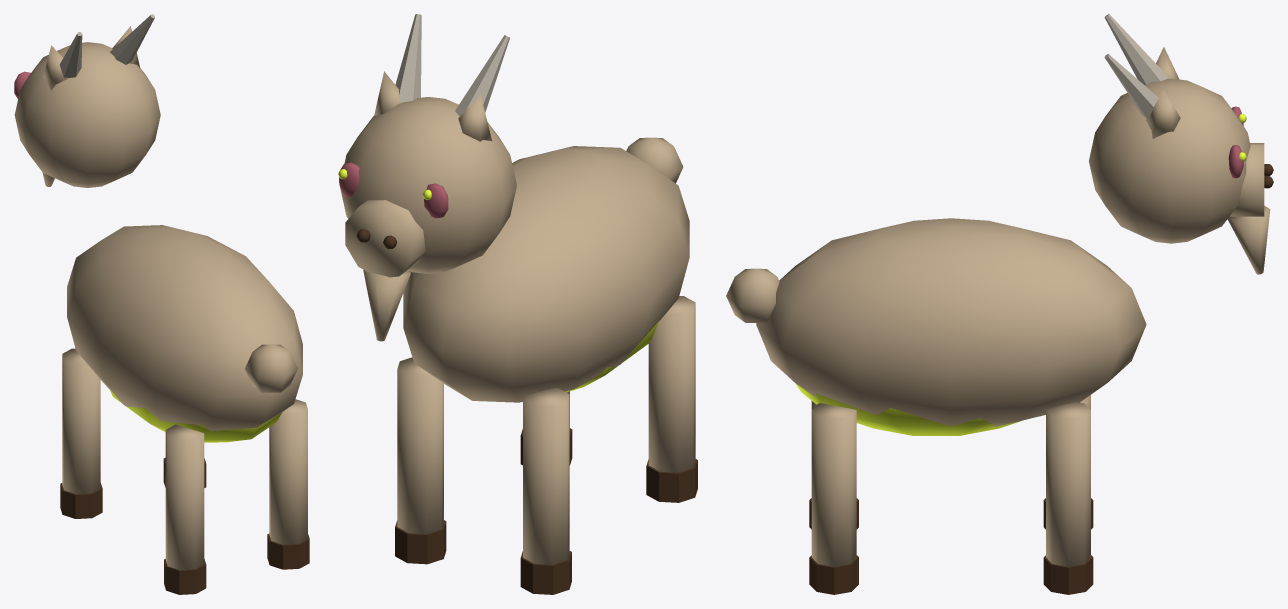
The model's file is goat.fbx.
3 renders of one model, left to right at view 1: azimuth 30°, elevation 25°; view 2: azimuth 150°, elevation 25°; view 3: azimuth 270°, elevation 25°, orthographic. The views are drawn at different scales.
Parts seen in each view (by area): view 1: Body, Head, LegL, LegR, ArmL; view 2: Body, Head, ArmL, ArmR, LegL; view 3: Body, Head, LegR, ArmR.
Boxes of the visible parts, x1,y1,x2,y2 form: Body: (67,225,302,442); Head: (14,14,160,187); LegL: (164,424,206,594); LegR: (267,399,309,569); ArmL: (60,348,102,518); Body: (403,137,689,402); Head: (338,14,516,341); ArmL: (520,388,571,594); ArmR: (395,357,446,564); LegL: (646,296,697,502); Body: (726,218,1146,435); Head: (1089,14,1273,274); LegR: (809,403,858,594); ArmR: (1043,402,1093,594).
Bounding box in the file's own units: 0.3 × 0.7295 × 0.7663.
